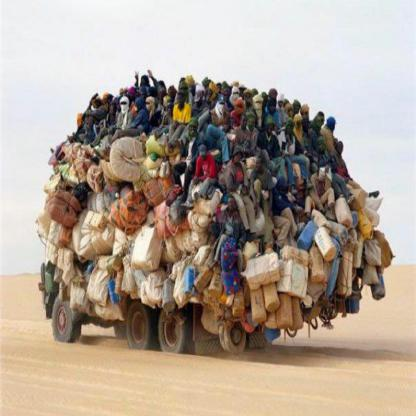overloaded-truck: (47, 65, 381, 364)
